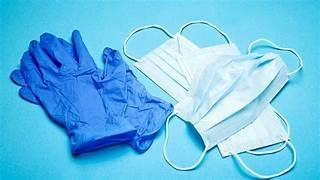Glove: (38, 31, 172, 152)
Mask: (218, 105, 295, 177), (123, 25, 189, 100), (166, 43, 240, 78)
